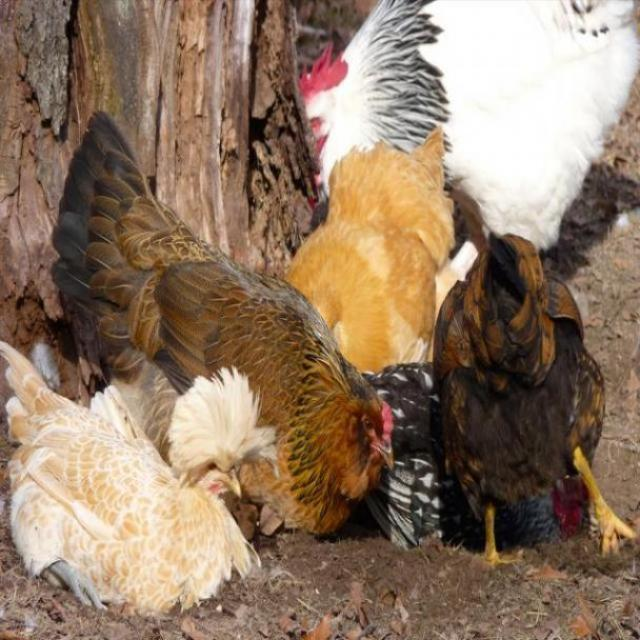Chicken: (44, 105, 394, 529), (303, 0, 639, 266), (425, 232, 636, 573), (351, 353, 592, 562), (284, 125, 472, 369)
